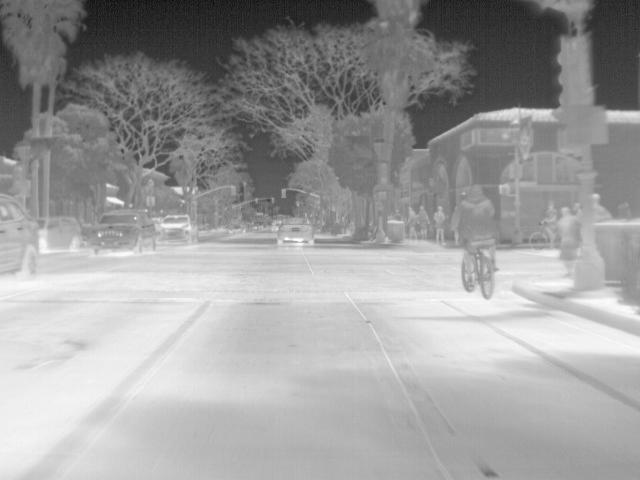car: (0, 191, 42, 283), (89, 209, 158, 253), (34, 214, 83, 250), (157, 214, 197, 246), (275, 216, 317, 246), (269, 216, 283, 230)
person: (460, 183, 499, 279), (554, 206, 581, 278), (432, 204, 451, 246), (590, 191, 616, 221), (542, 201, 560, 241), (413, 204, 431, 240), (402, 204, 419, 240)
